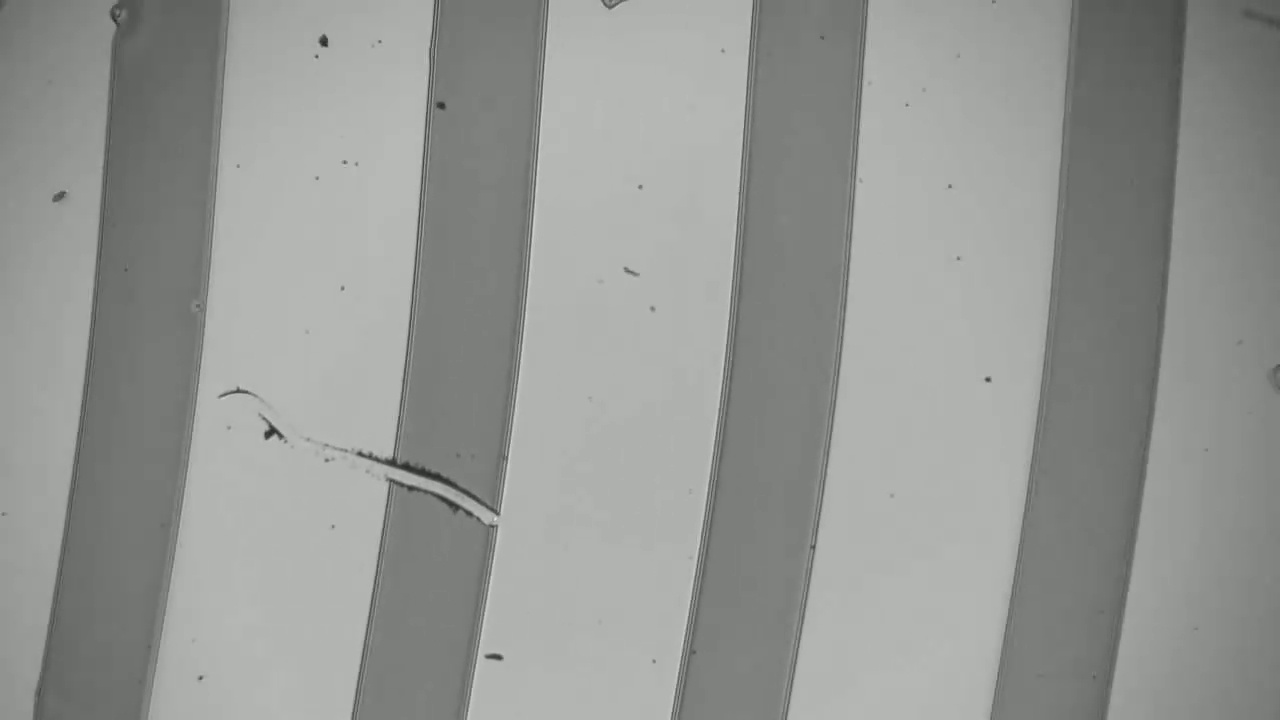Short_circuit: (350, 429, 537, 549)
